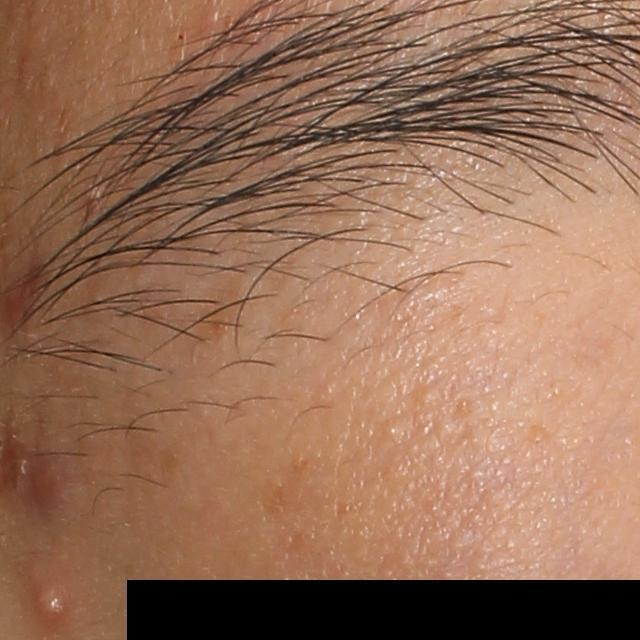pustule: (25, 569, 72, 626)
